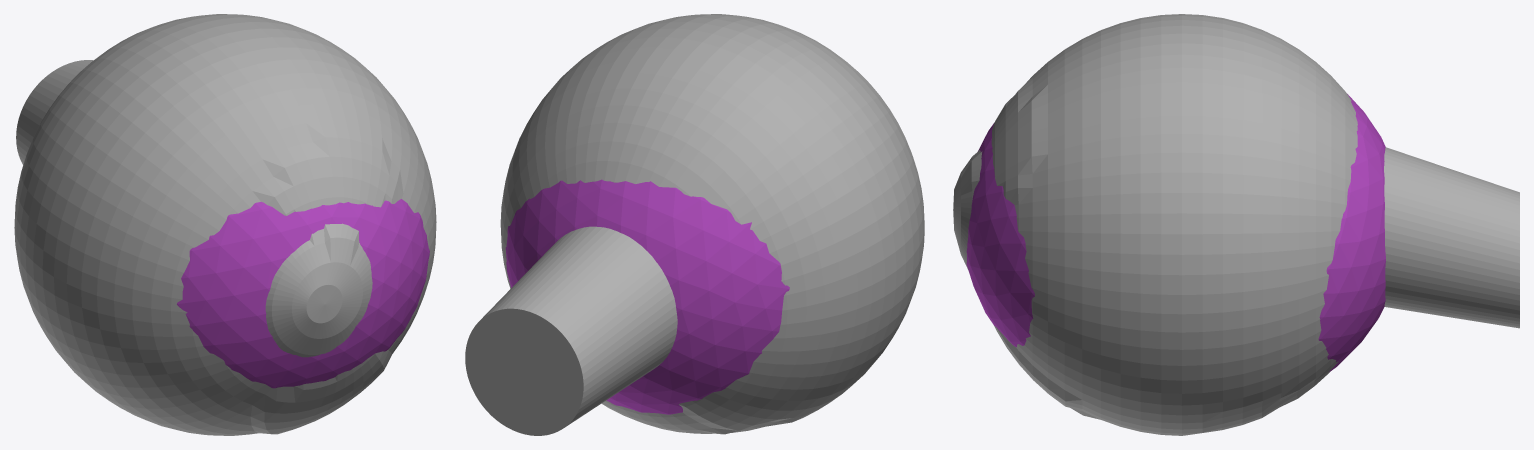
File: G01_INITIAL_GT_ALIGNED.glb
The picture shows the model from 3 angles, left to right: view 1: azimuth 30°, elevation 25°; view 2: azimuth 150°, elevation 25°; view 3: azimuth 270°, elevation 25°; orthographic projection.
Visible parts, largest first — view 1: GT, INITIAL_ALIGNED_EVALUATION_ONLY; view 2: GT, INITIAL_ALIGNED_EVALUATION_ONLY; view 3: GT, INITIAL_ALIGNED_EVALUATION_ONLY.
Part boxes in pixels (box(x1,y1,x2,y2)): GT: box(14, 14, 436, 435); INITIAL_ALIGNED_EVALUATION_ONLY: box(177, 199, 429, 388); GT: box(465, 14, 924, 435); INITIAL_ALIGNED_EVALUATION_ONLY: box(505, 179, 789, 414); GT: box(953, 14, 1519, 435); INITIAL_ALIGNED_EVALUATION_ONLY: box(966, 94, 1385, 371).
Bounding box in the file's own units: 0.012 × 0.012 × 0.0161.
